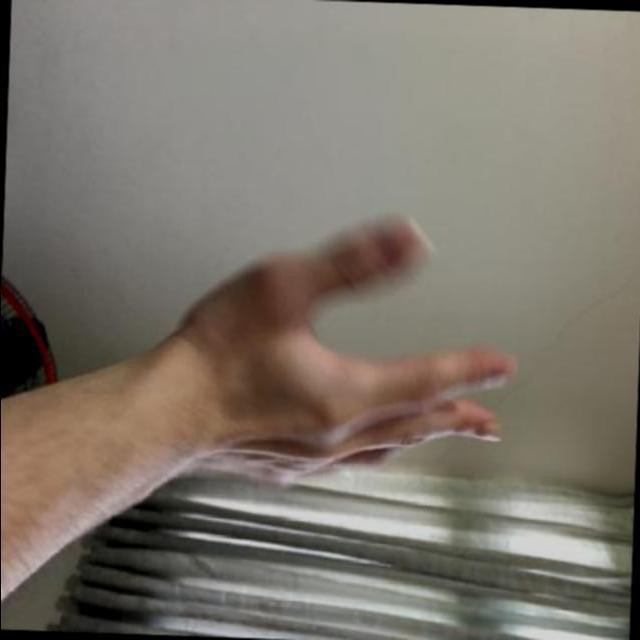Hand: (148, 195, 522, 527)
